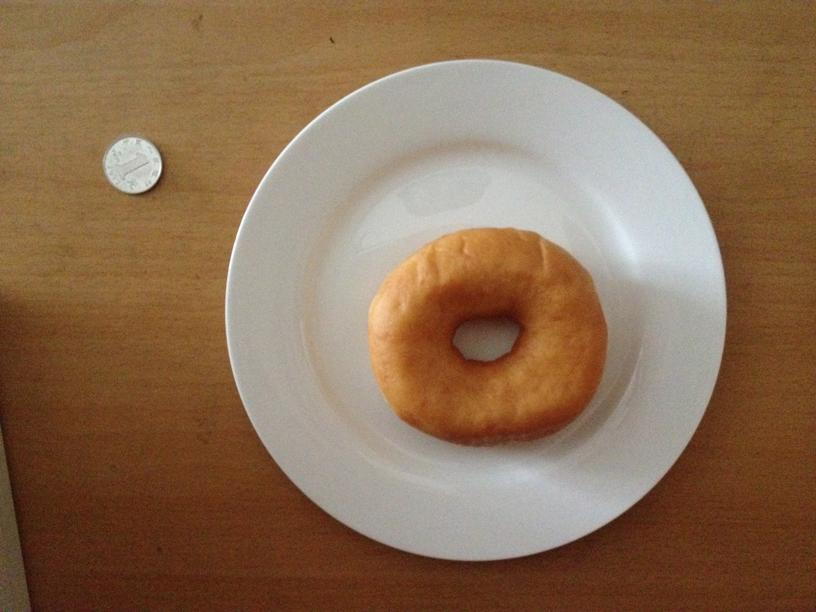coin: (102, 134, 163, 194)
doughnut: (366, 228, 607, 446)
